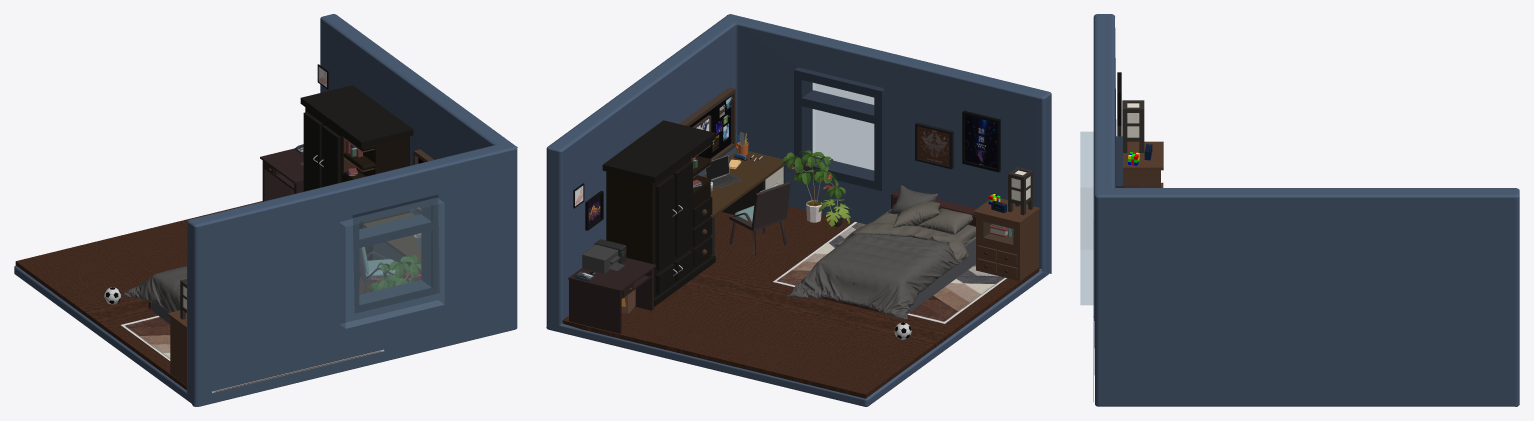
File: cleaned_portfolio_model_3.glb
3 views of the same model, side by side, from view 1: azimuth 30°, elevation 25°; view 2: azimuth 150°, elevation 25°; view 3: azimuth 270°, elevation 25° (orthographic). The views are drawn at different scales.
Parts seen in each view (by area): view 1: room_wall_1, window_glass, room_floor, room_wall_2, wardrobe_body, window_frame, room_sub_flloor, table_body, carpet, bedsheets_2, wardrobe_door_1, desk_body (+3 smaller); view 2: room_wall_1, room_floor, room_wall_2, bedsheets_2, wardrobe_body, window_frame, room_sub_flloor, table_body, carpet, window_glass, bedsheets_1, desk_body (+18 smaller); view 3: room_wall_2, room_wall_1, window_glass, side_table_top, lamp_frame, side_table_body.
Part boxes in pixels (x1,y1,x2,y2): room_wall_1: [187, 144, 516, 406]; window_glass: [339, 198, 444, 328]; room_floor: [15, 201, 421, 390]; room_wall_2: [320, 14, 517, 327]; wardrobe_body: [300, 85, 413, 260]; window_frame: [352, 194, 439, 313]; room_sub_flloor: [14, 147, 517, 406]; table_body: [260, 148, 303, 201]; carpet: [120, 316, 384, 393]; bedsheets_2: [123, 266, 186, 312]; wardrobe_door_1: [303, 112, 322, 191]; desk_body: [363, 212, 421, 264]; room_wall_1: [729, 14, 1051, 273]; room_floor: [562, 206, 1039, 398]; room_wall_2: [546, 14, 734, 328]; bedsheets_2: [786, 185, 972, 319]; wardrobe_body: [602, 120, 715, 306]; window_frame: [794, 67, 884, 190]; room_sub_flloor: [546, 15, 1048, 406]; table_body: [568, 257, 656, 333]; carpet: [773, 222, 1007, 323]; window_glass: [812, 83, 873, 170]; bedsheets_1: [790, 186, 975, 317]; desk_body: [702, 150, 787, 255]; room_wall_2: [1095, 188, 1519, 406]; room_wall_1: [1093, 14, 1116, 401]; window_glass: [1080, 132, 1093, 304]; side_table_top: [1123, 141, 1163, 170]; lamp_frame: [1122, 100, 1144, 152]; side_table_body: [1123, 170, 1160, 187].
Bounding box in the file's own units: 12.7 × 6.84 × 12.86.
112 materials, 24 textured.
